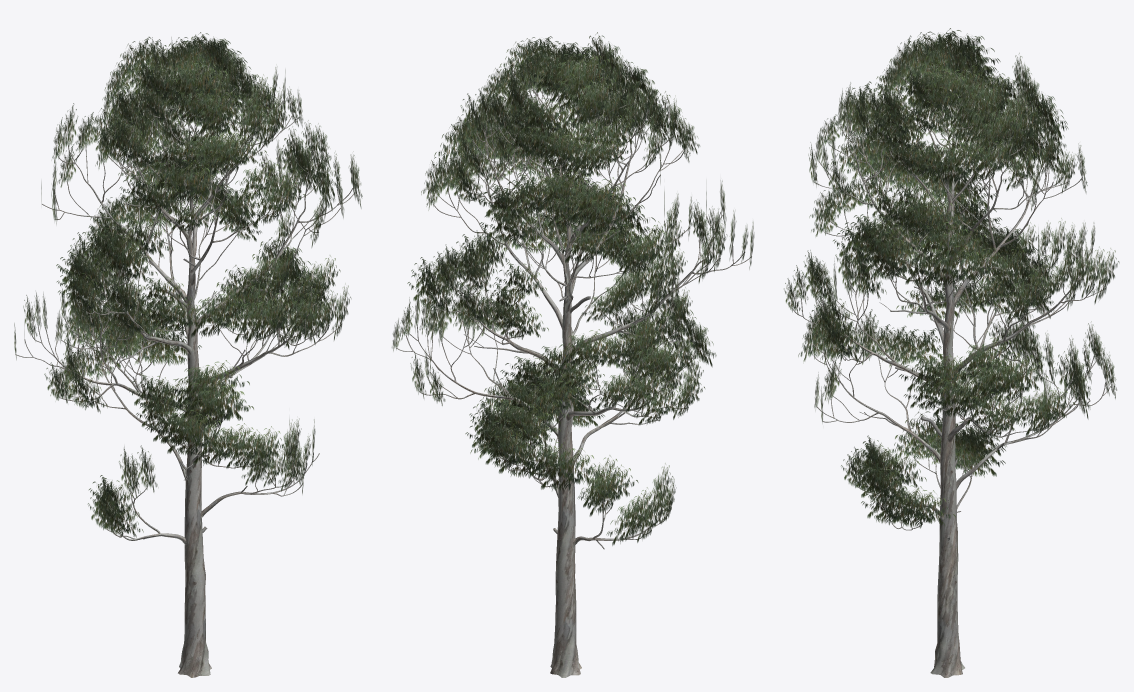
The model's file is mature.glb.
3 renders of one model, left to right at view 1: azimuth 30°, elevation 25°; view 2: azimuth 150°, elevation 25°; view 3: azimuth 270°, elevation 25°, orthographic.
Visible parts, largest first — view 1: Eucalyptus_viminalis_RT; view 2: Eucalyptus_viminalis_RT; view 3: Eucalyptus_viminalis_RT.
Part boxes in pixels (x1,y1,x2,y2): Eucalyptus_viminalis_RT: [14, 32, 362, 677]; Eucalyptus_viminalis_RT: [392, 32, 754, 677]; Eucalyptus_viminalis_RT: [784, 28, 1119, 677].
Size of the model in its own units: 0.5105 by 1 by 0.4795.
5 materials, 5 textured.
